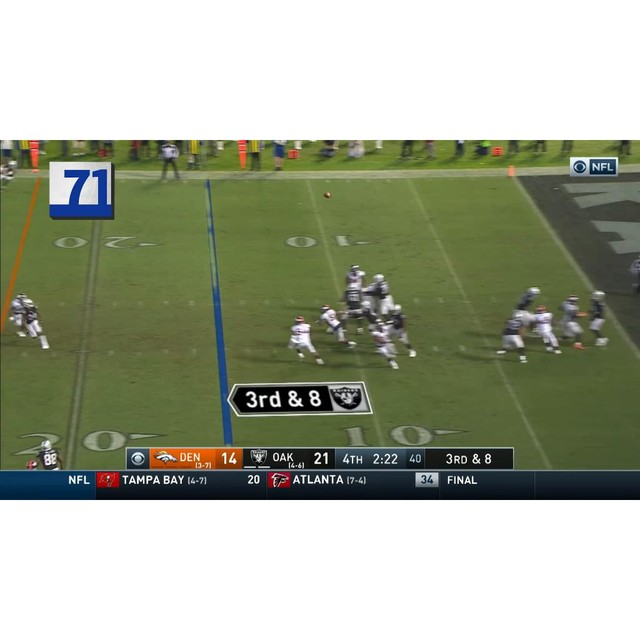american-football-player: (288, 315, 324, 365), (496, 311, 529, 363), (317, 303, 355, 348), (559, 294, 588, 350), (388, 303, 417, 358), (369, 320, 399, 370), (23, 299, 51, 349), (533, 304, 561, 354), (586, 290, 610, 348), (28, 438, 64, 470), (6, 293, 28, 337)
referee: (158, 140, 181, 182)
